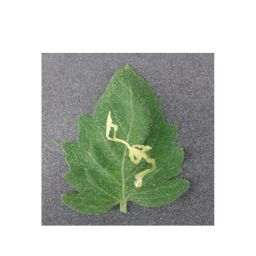liriomyza: (104, 109, 157, 190)
